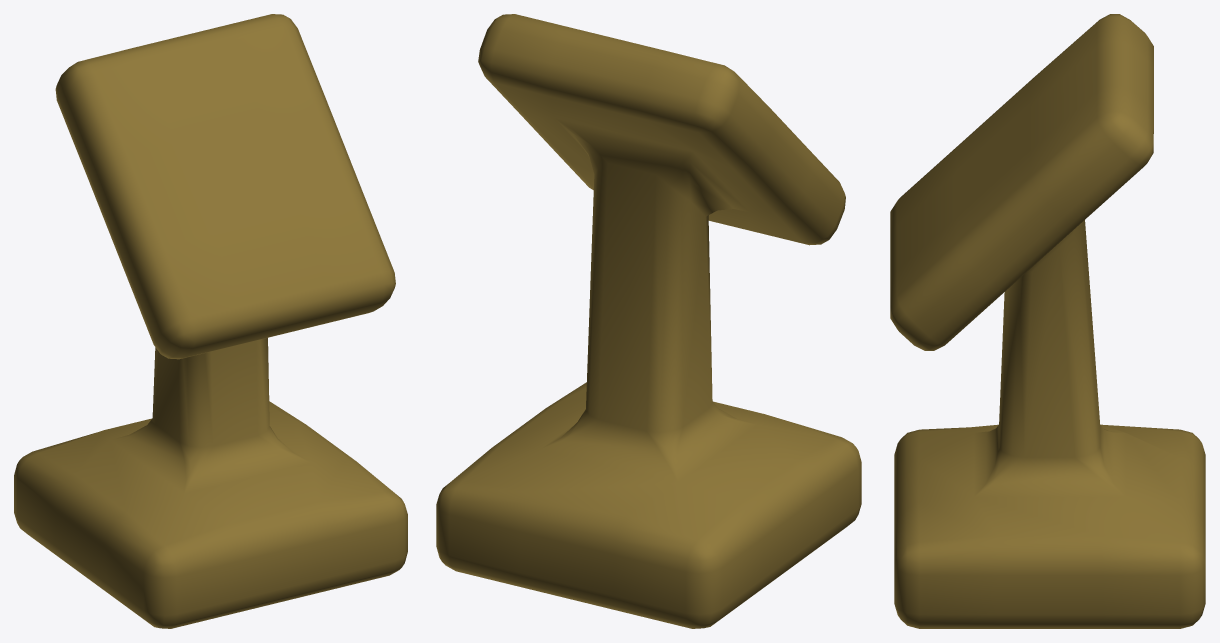
The model's file is pedestal.fbx.
The picture shows the model from 3 angles, left to right: view 1: azimuth 30°, elevation 25°; view 2: azimuth 150°, elevation 25°; view 3: azimuth 270°, elevation 25°; orthographic projection. The views are drawn at different scales.
Visible parts, largest first — view 1: Pedestal; view 2: Pedestal; view 3: Pedestal.
Part boxes in pixels (<box>): Pedestal: <box>14,14,407,628</box>; Pedestal: <box>436,14,861,628</box>; Pedestal: <box>890,14,1205,628</box>.
Size of the model in its own units: 124 by 223 by 125.
